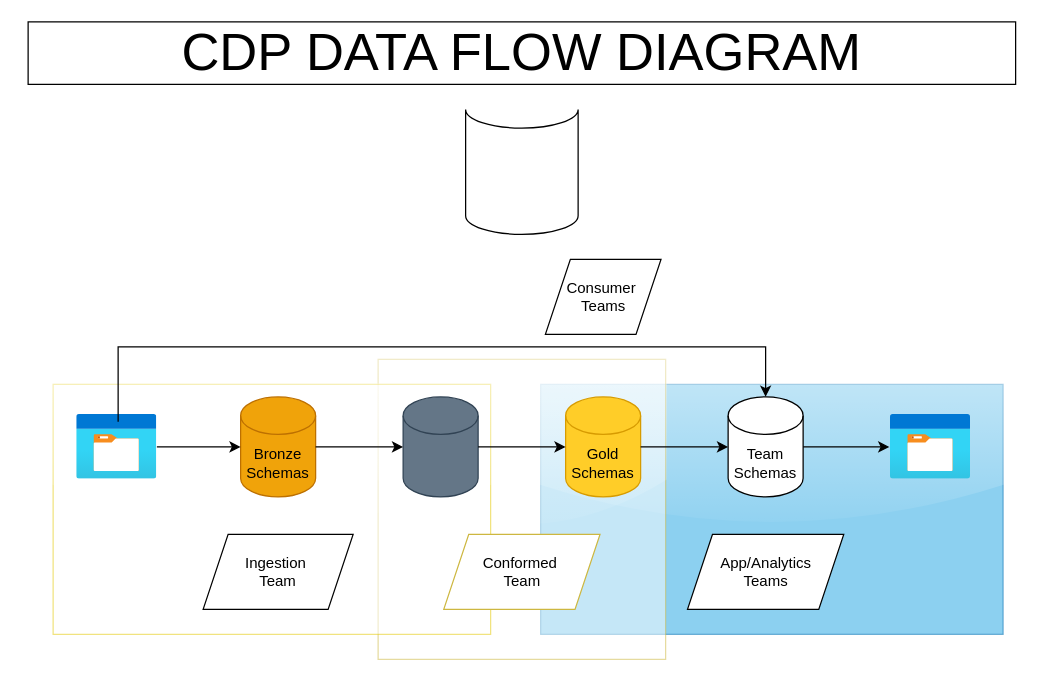
This 1044x700 diagram has some shape labels left out. The shapes that lost their labels are listed below. From the top down, each one's centre as x and y in pixels, then its label:
At point (521, 171): "CDP Catalog".
At point (116, 446): "Staging Inbound External Location".
At point (440, 446): "Silver Schemas".
At point (930, 446): "Staging Outbound External Location".
